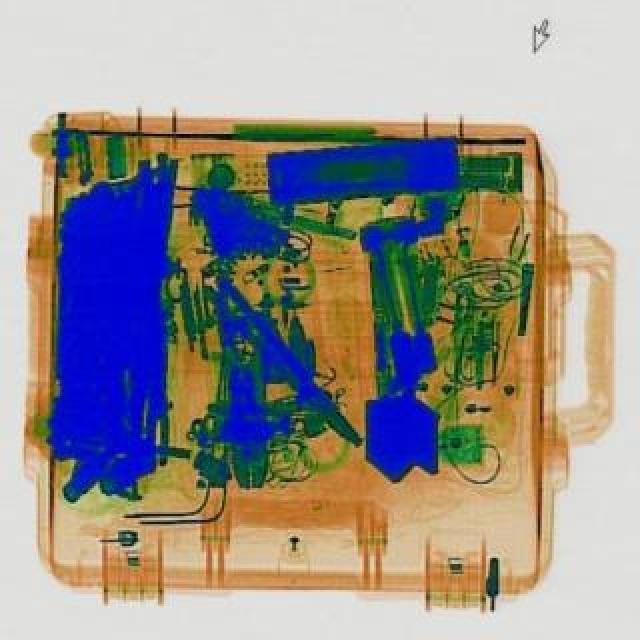wrench: (190, 274, 372, 462), (218, 274, 272, 490)
